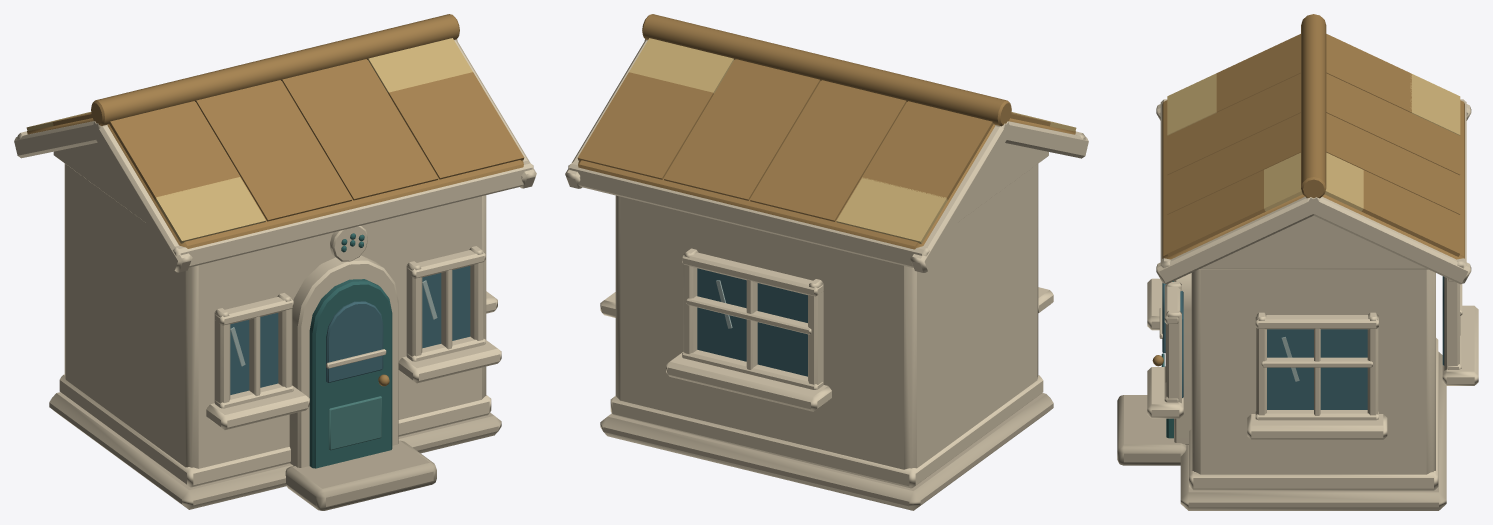
The model's file is town_hall_level_1.glb.
The picture shows the model from 3 angles, left to right: view 1: azimuth 30°, elevation 25°; view 2: azimuth 150°, elevation 25°; view 3: azimuth 270°, elevation 25°; orthographic projection. The views are drawn at different scales.
Parts seen in each view (by area): view 1: town_hall_level_1_runtime; view 2: town_hall_level_1_runtime; view 3: town_hall_level_1_runtime.
Part boxes in pixels (bbox=[...]): town_hall_level_1_runtime: bbox=[14, 14, 536, 510]; town_hall_level_1_runtime: bbox=[565, 14, 1088, 510]; town_hall_level_1_runtime: bbox=[1117, 14, 1478, 510].
Size of the model in its own units: 3.32 by 3.15 by 2.99.
